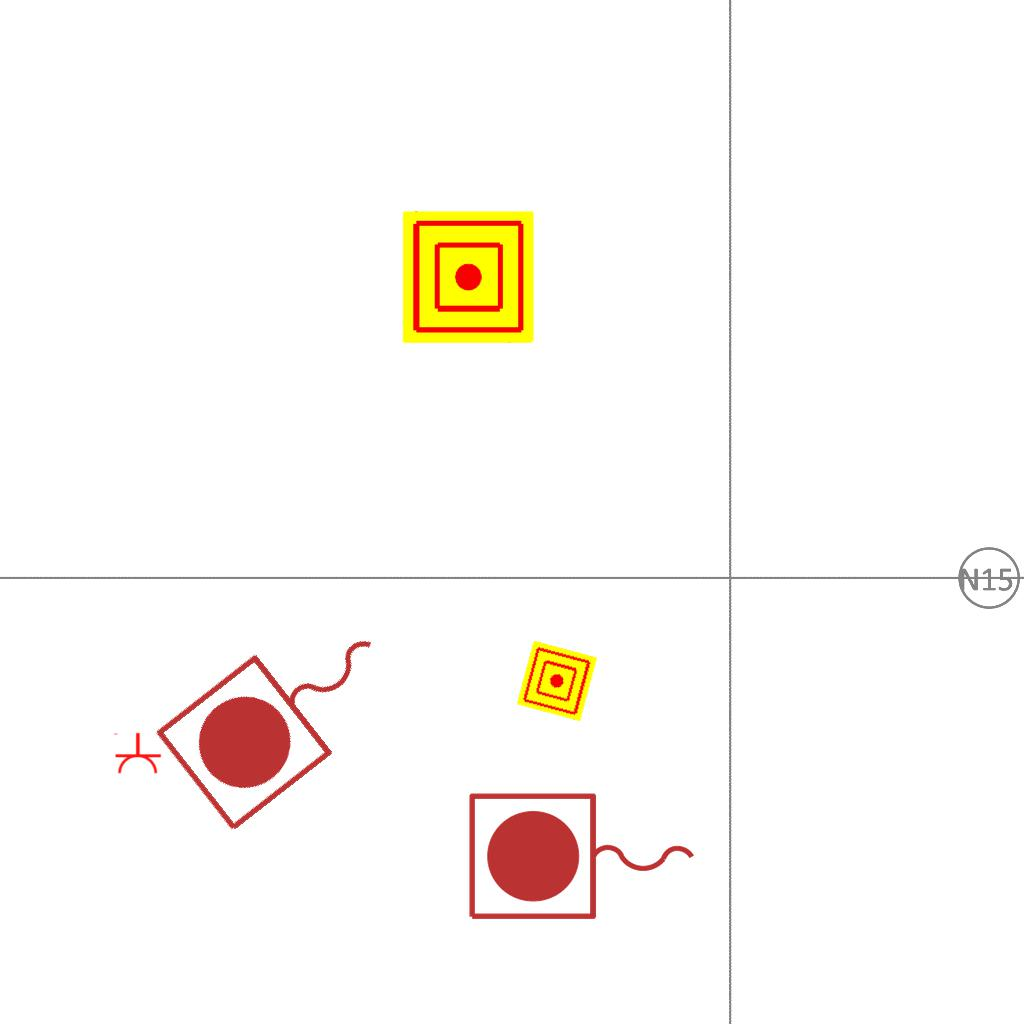NAM-Nichtautomatischer_Melder: (402, 211, 534, 343), (516, 640, 598, 722)
Schukosteckdose_einfach: (112, 732, 162, 775)
Zugtaster: (144, 581, 426, 845), (461, 786, 705, 930)
